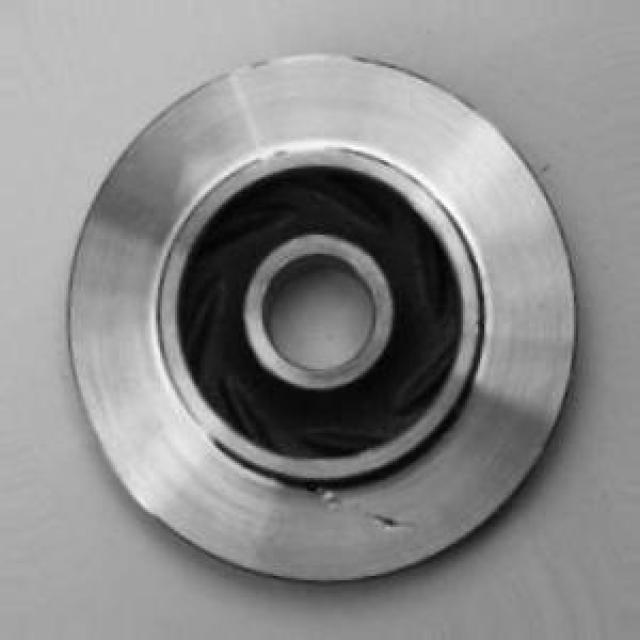Defect: (304, 476, 346, 514)
